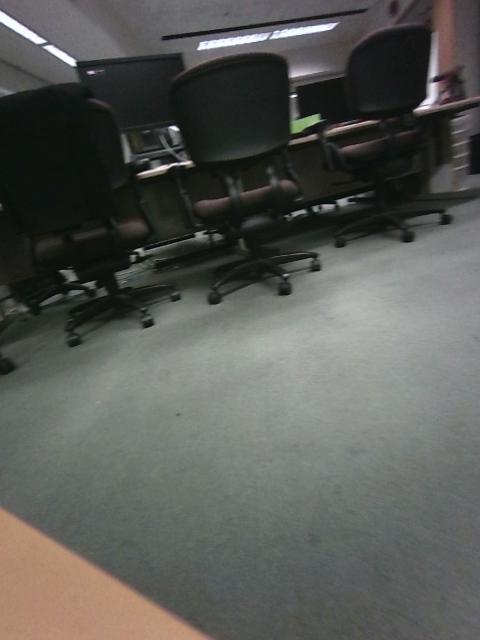block: (233, 409, 316, 495)
